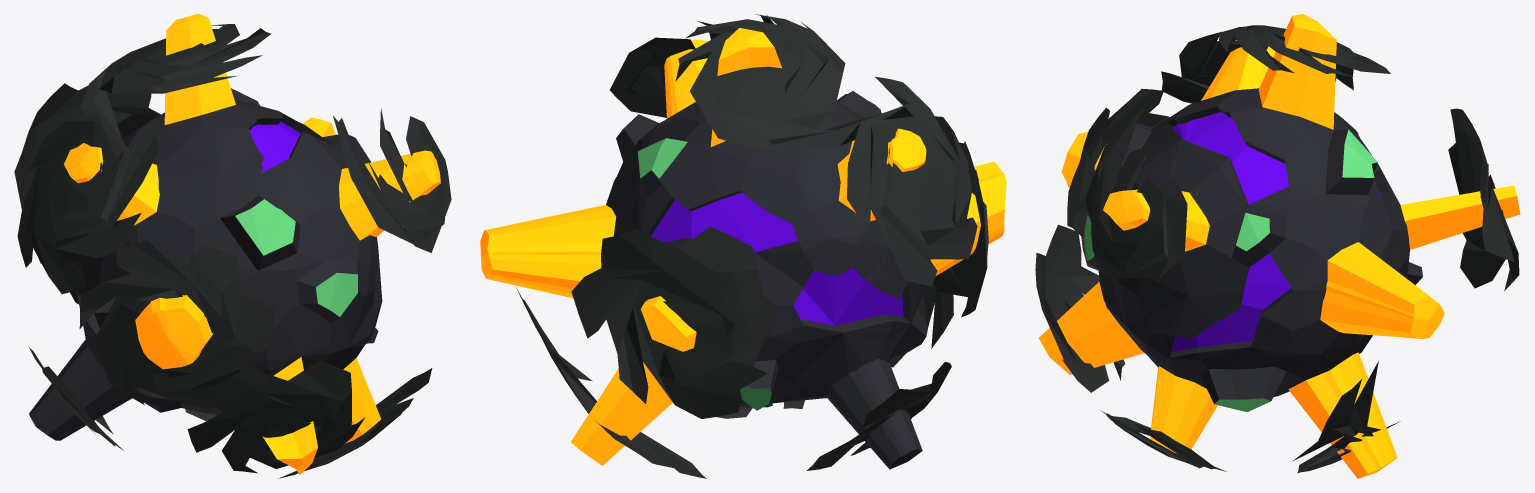
Rendered from Planet2Dest5.glb.
The picture shows the model from 3 angles, left to right: view 1: azimuth 30°, elevation 25°; view 2: azimuth 150°, elevation 25°; view 3: azimuth 270°, elevation 25°; orthographic projection. The views are drawn at different scales.
Visible parts, largest first — view 1: Icosphere.032; view 2: Icosphere.032; view 3: Icosphere.032.
Part boxes in pixels (left/top/right/bottom): Icosphere.032: left=14, top=14, right=451, bottom=478; Icosphere.032: left=480, top=14, right=1006, bottom=478; Icosphere.032: left=1035, top=14, right=1520, bottom=478.
Bounding box in the file's own units: 2.28 × 2.49 × 2.61.
